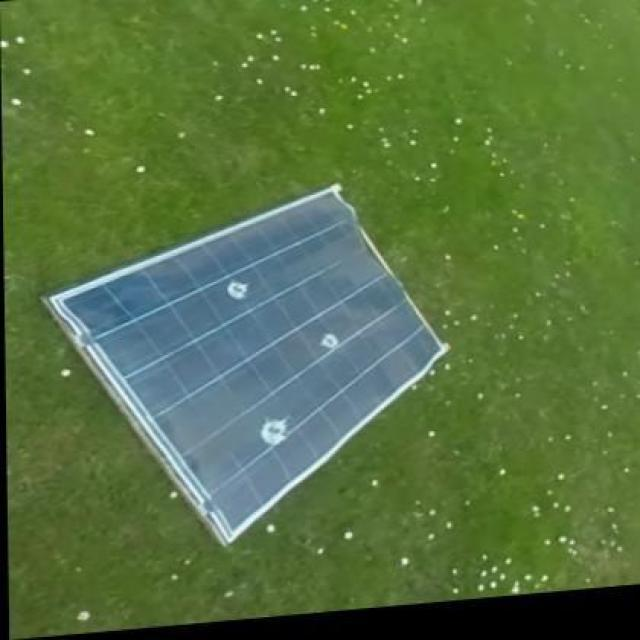soiled: (54, 184, 456, 538)
